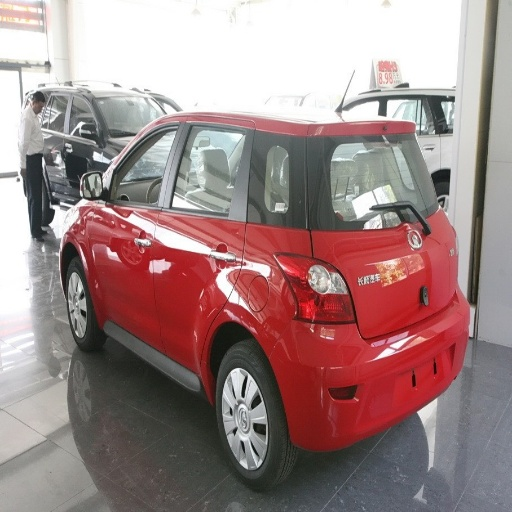back_bumper: (273, 302, 466, 446)
back_glass: (319, 148, 433, 226)
back_left_door: (156, 121, 242, 330)
tailgate: (343, 270, 434, 338)
trunk: (313, 225, 456, 317)
